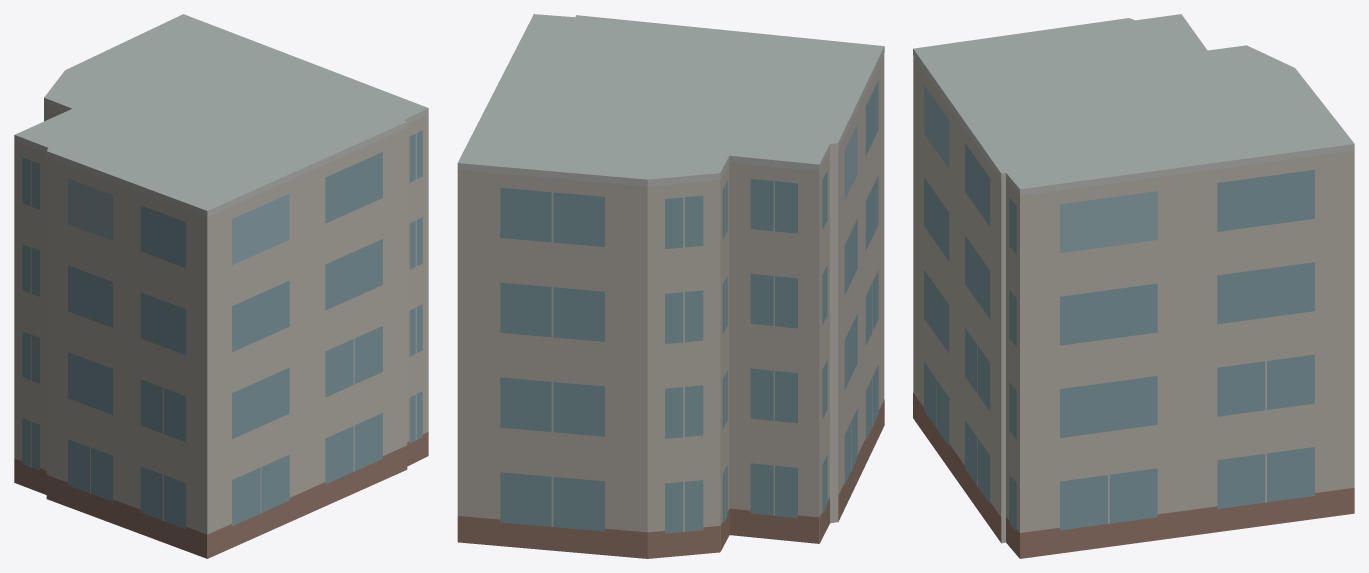
File: survey-upis-32679872.glb
3 views of the same model, side by side, from view 1: azimuth 30°, elevation 25°; view 2: azimuth 150°, elevation 25°; view 3: azimuth 270°, elevation 25° (orthographic). The views are drawn at different scales.
Parts seen in each view (by area): view 1: survey-upis-32679872.tmp; view 2: survey-upis-32679872.tmp; view 3: survey-upis-32679872.tmp.
Part boxes in pixels (x1,y1,x2,y2): survey-upis-32679872.tmp: [14, 14, 428, 558]; survey-upis-32679872.tmp: [457, 14, 884, 558]; survey-upis-32679872.tmp: [913, 14, 1354, 558].
Size of the model in its own units: 13.79 by 13.55 by 14.68.
